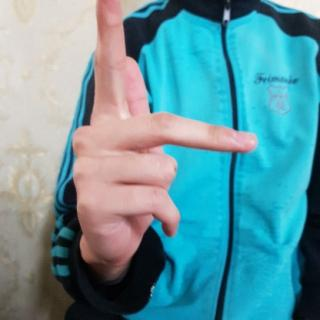DHAA: (64, 0, 263, 268)
